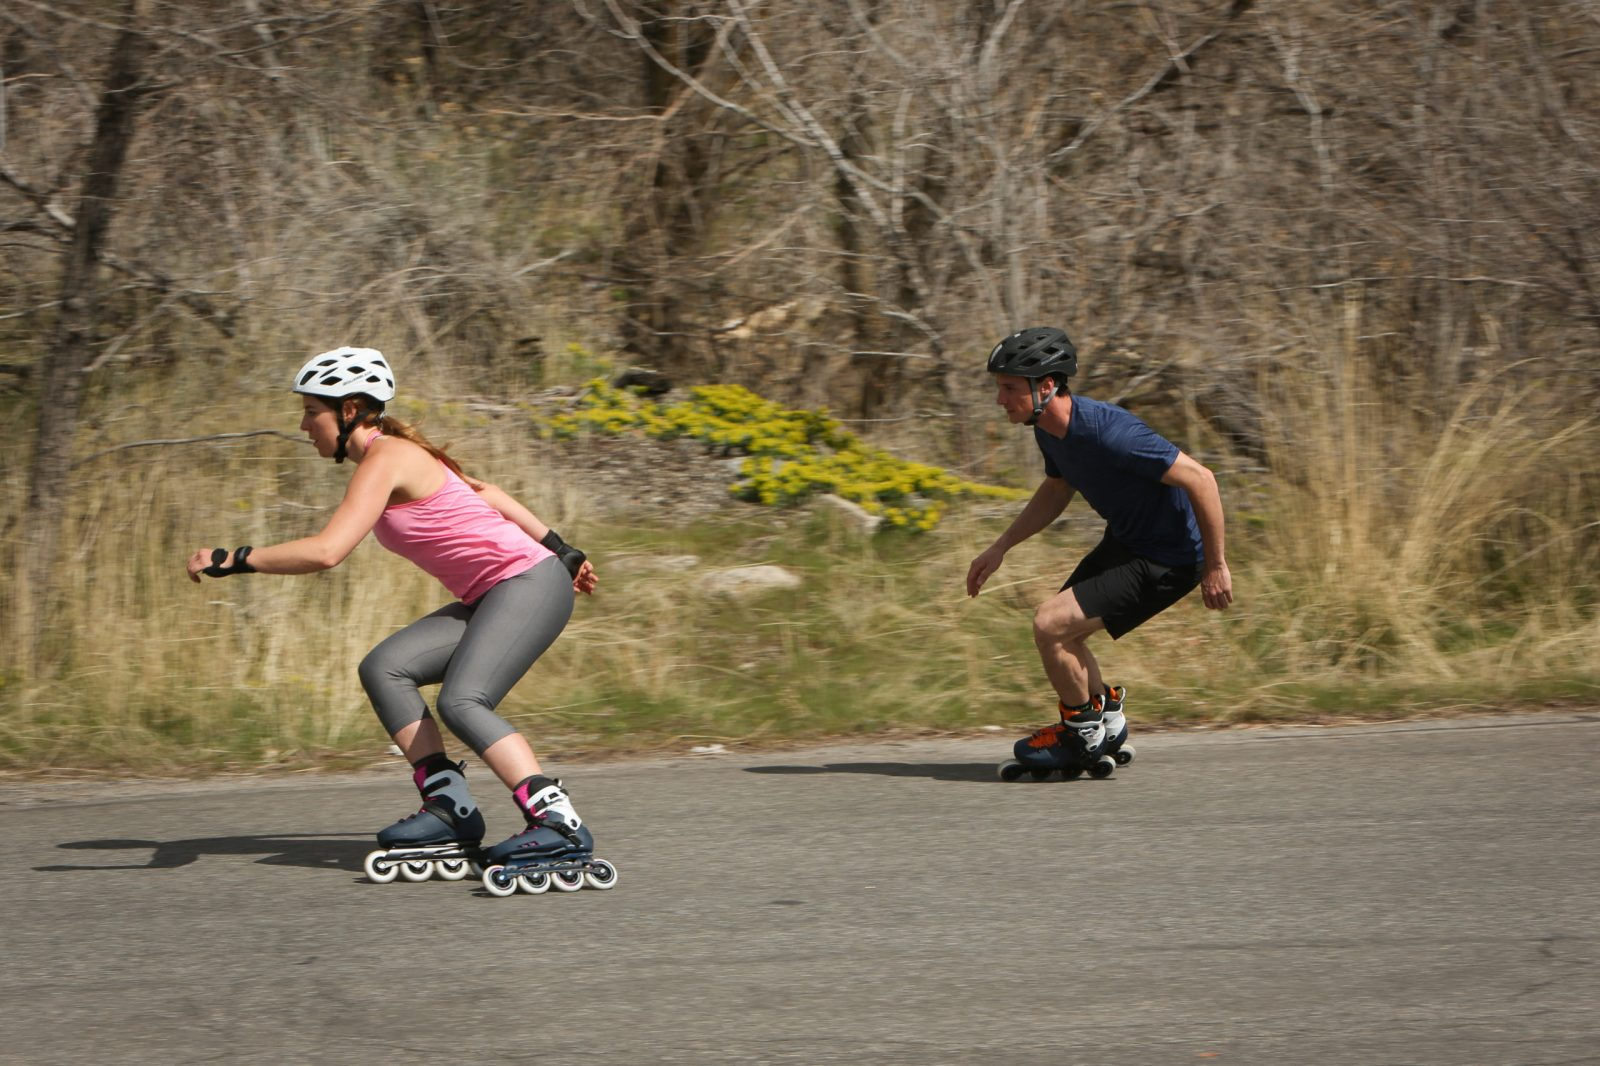roller_blade: (488, 775, 621, 890), (998, 692, 1134, 775), (362, 782, 482, 873)
